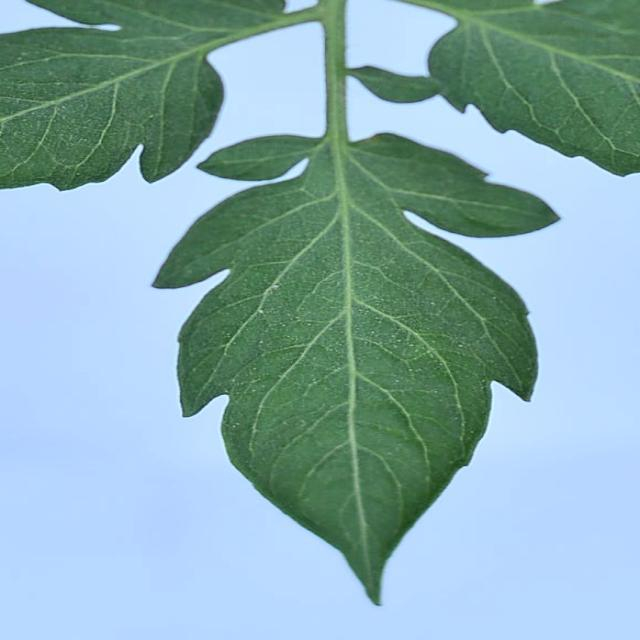healthy: (151, 134, 554, 614), (0, 0, 294, 196), (389, 0, 640, 178)
